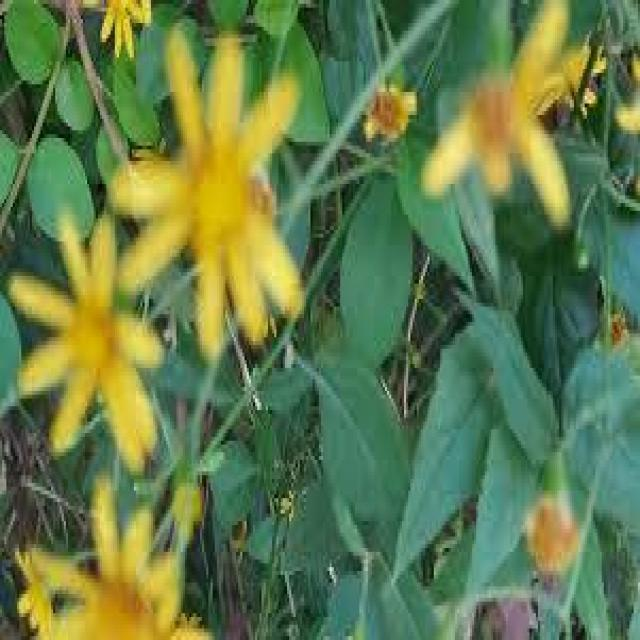organic waste: (114, 50, 301, 360), (5, 226, 197, 483), (426, 42, 584, 234)
